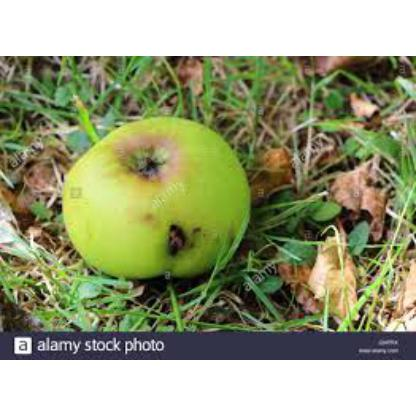damaged_apple: (53, 115, 256, 281)
